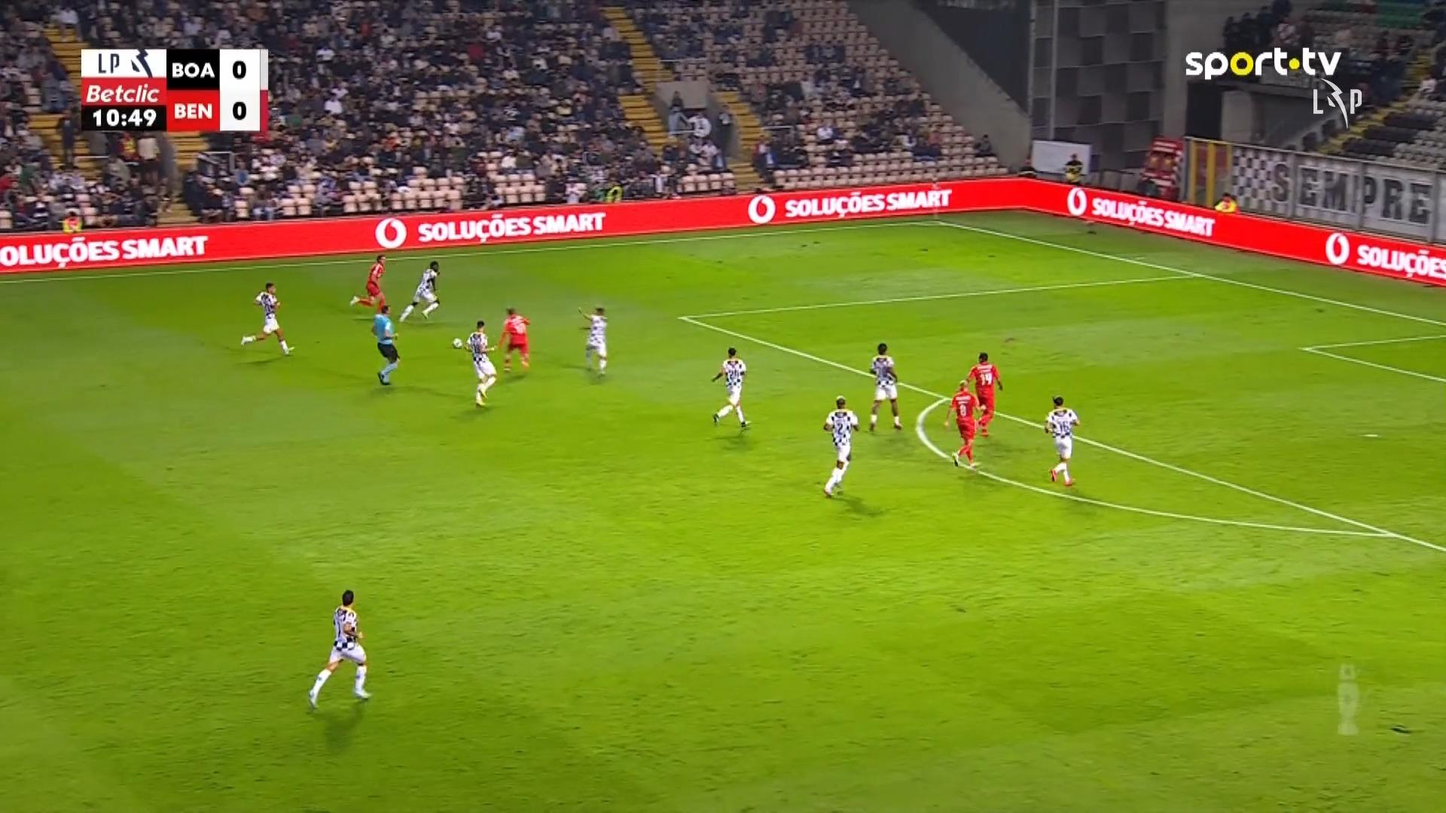ball: (451, 337, 462, 349), (343, 623, 355, 634)
goalkeeper: (465, 319, 497, 406)
player: (307, 589, 371, 709), (239, 281, 293, 356), (822, 394, 859, 498), (709, 346, 751, 428), (1043, 395, 1080, 487), (943, 379, 981, 468), (867, 342, 902, 432), (966, 351, 1003, 436), (398, 260, 441, 321), (576, 304, 609, 376), (348, 253, 387, 313), (496, 306, 530, 372)
referee: (371, 303, 400, 385)
